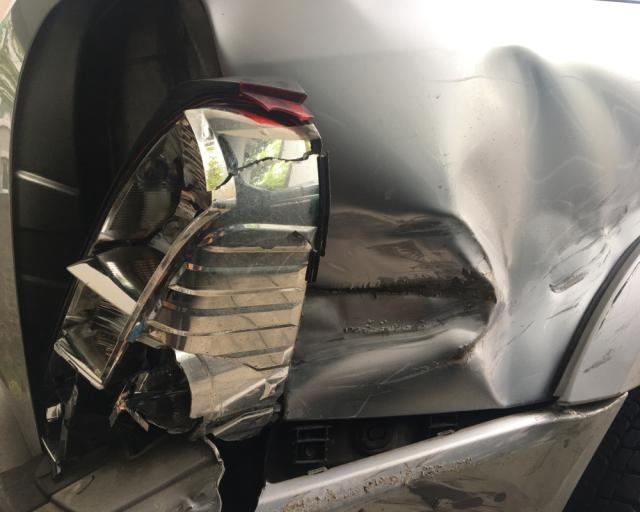crack: (212, 138, 323, 190)
dent: (288, 44, 640, 407)
scratch: (383, 450, 531, 512)
